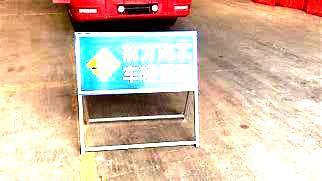sign: (76, 33, 196, 90)
